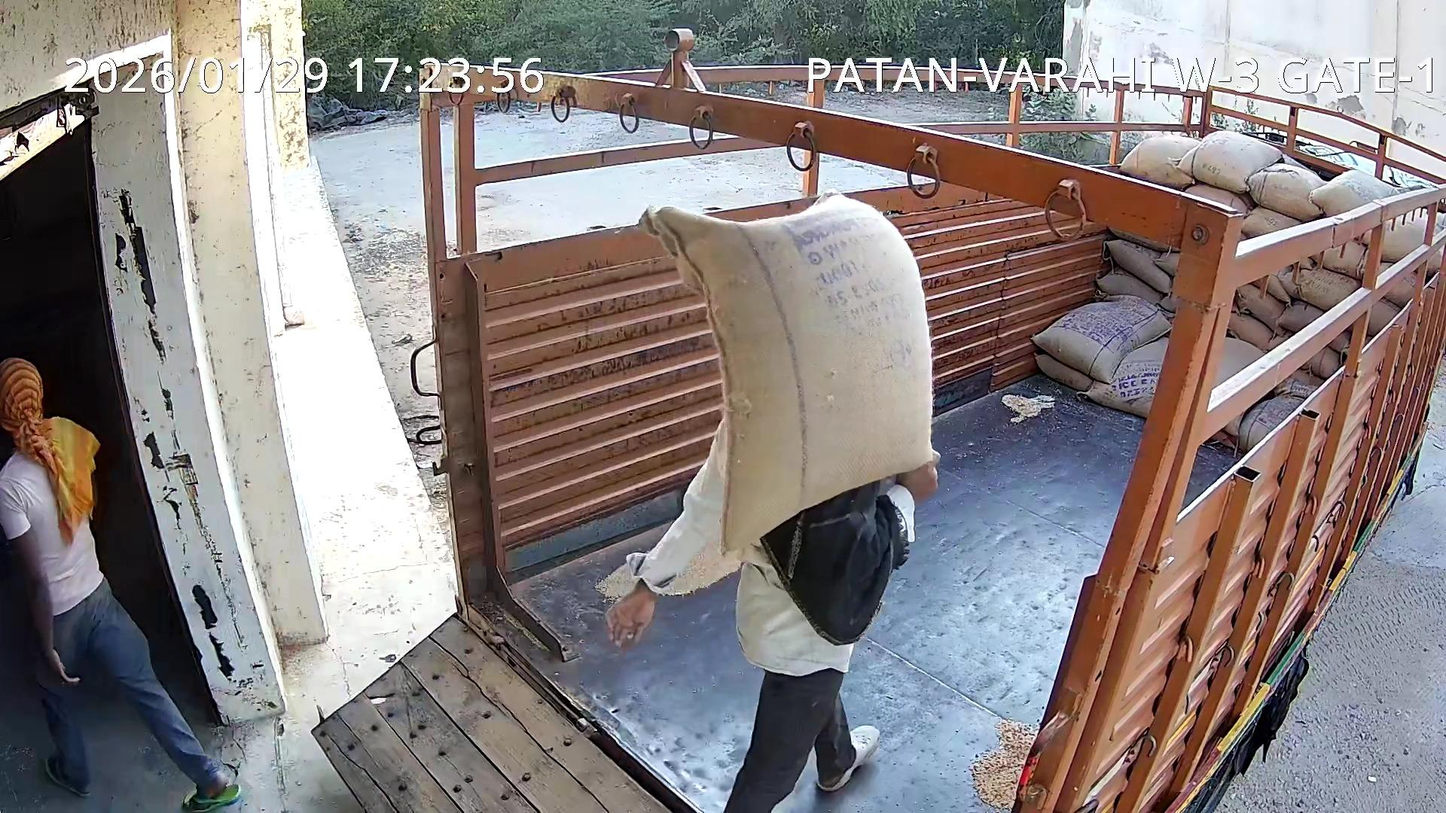Sack: (639, 193, 932, 552)
